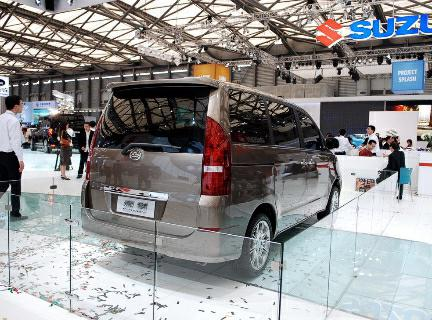长城-嘉誉: (80, 78, 347, 278)
